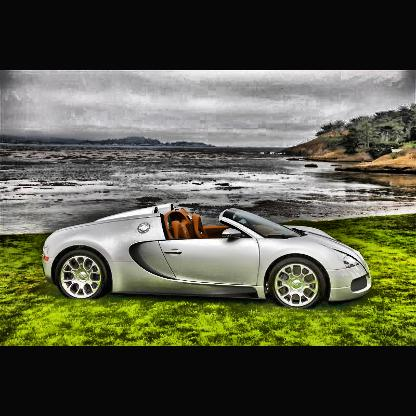Bugatti Veyron 16-4 Convertible 2009: (43, 204, 373, 311)
